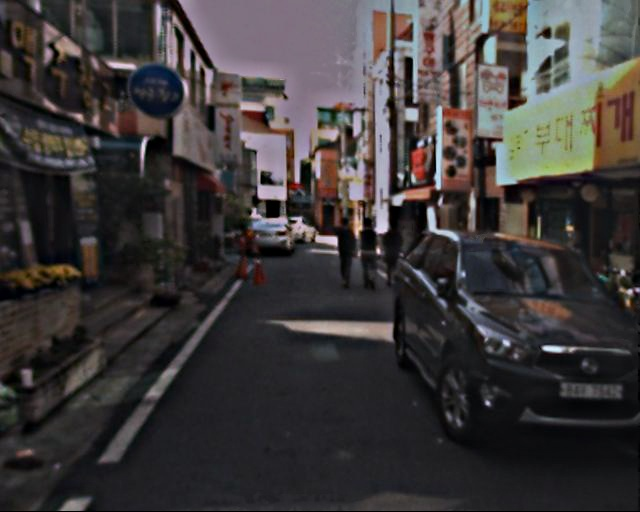person: (354, 215, 386, 292), (328, 218, 359, 293), (375, 215, 405, 289)
